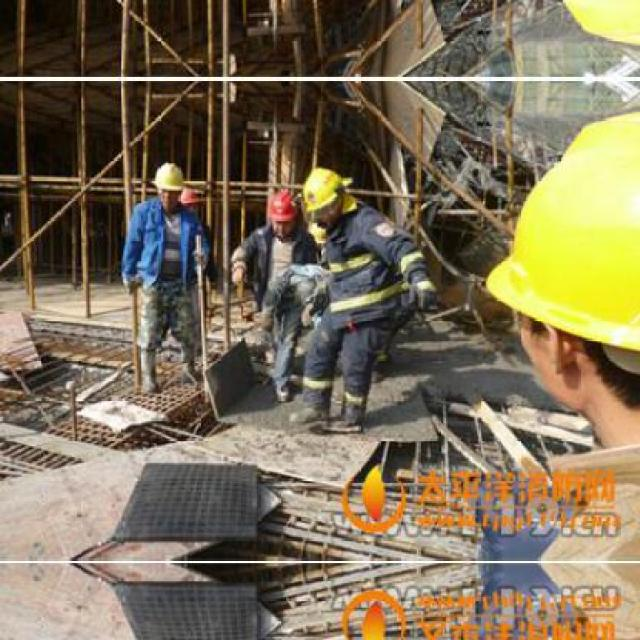helmet: (480, 114, 634, 461), (297, 160, 348, 226), (151, 158, 187, 208), (268, 183, 301, 234)
